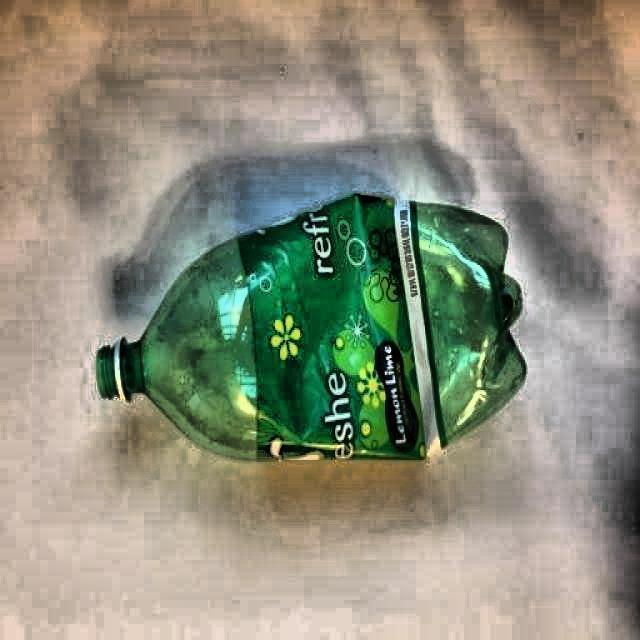plastic: (94, 193, 528, 466)
